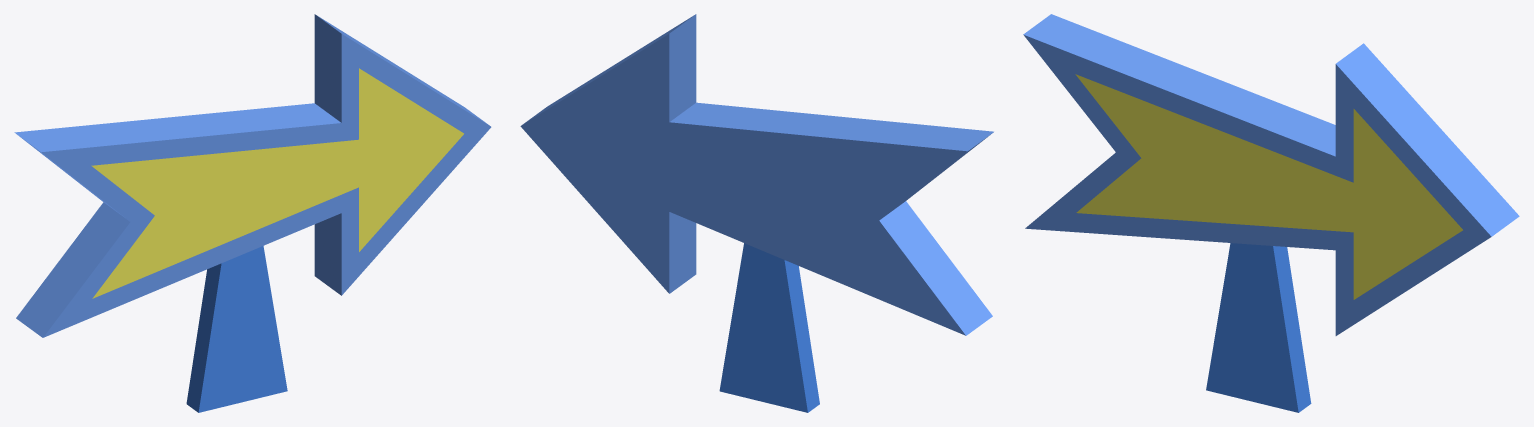
Rendered from zhilupai_01.FBX.
The picture shows the model from 3 angles, left to right: view 1: azimuth 30°, elevation 25°; view 2: azimuth 150°, elevation 25°; view 3: azimuth 330°, elevation 25°; orthographic projection. The views are drawn at different scales.
Visible parts, largest first — view 1: zhilupai_01; view 2: zhilupai_01; view 3: zhilupai_01.
Part boxes in pixels (x1,y1,x2,y2): zhilupai_01: [14, 14, 491, 412]; zhilupai_01: [520, 14, 993, 412]; zhilupai_01: [1023, 14, 1519, 412].
Bounding box in the file's own units: 558 × 419 × 58.02.
